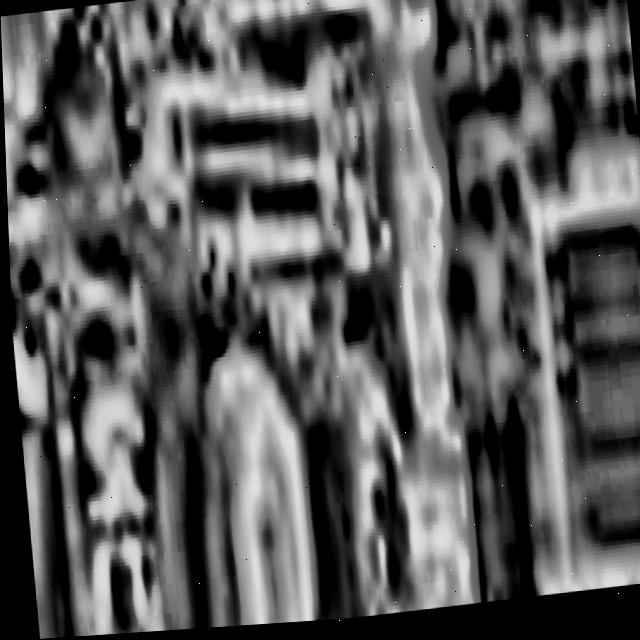dump_truck: (0, 0, 447, 640), (403, 0, 640, 613)
